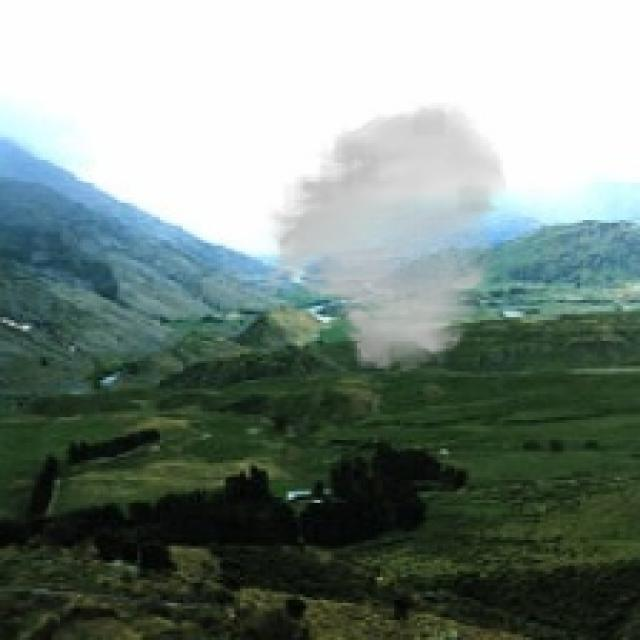Smoke: (260, 100, 509, 374)
